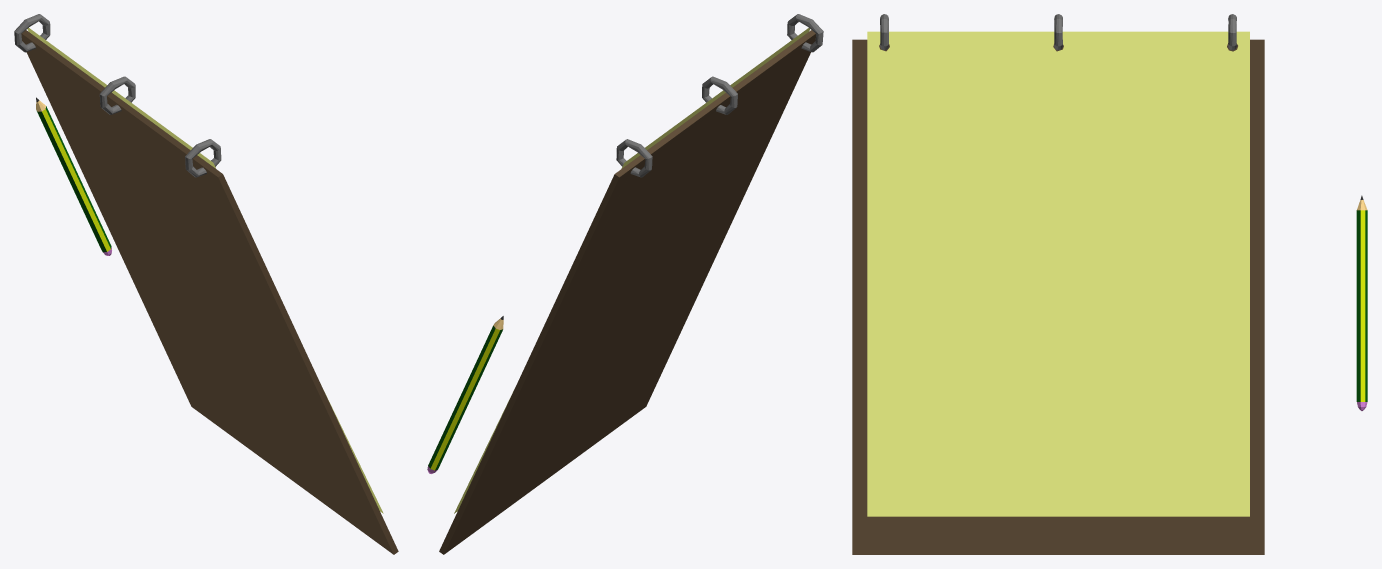
Rendered from cuaderno.fbx.
3 views of the same model, side by side, from view 1: azimuth 30°, elevation 25°; view 2: azimuth 150°, elevation 25°; view 3: azimuth 270°, elevation 25° (orthographic).
Parts seen in each view (by area): view 1: Backplate, Pencil, Paper 1; view 2: Backplate, Pencil, Paper 1; view 3: Paper 1, Backplate, Pencil.
Part boxes in pixels (x1,y1,x2,y2): Backplate: [14, 14, 398, 554]; Pencil: [36, 97, 111, 255]; Paper 1: [27, 28, 383, 513]; Backplate: [439, 14, 823, 554]; Pencil: [427, 316, 503, 473]; Paper 1: [454, 28, 809, 513]; Paper 1: [867, 31, 1249, 516]; Backplate: [852, 14, 1264, 554]; Pencil: [1356, 195, 1367, 410].
Bounding box in the file's own units: 281 × 605 × 624.
